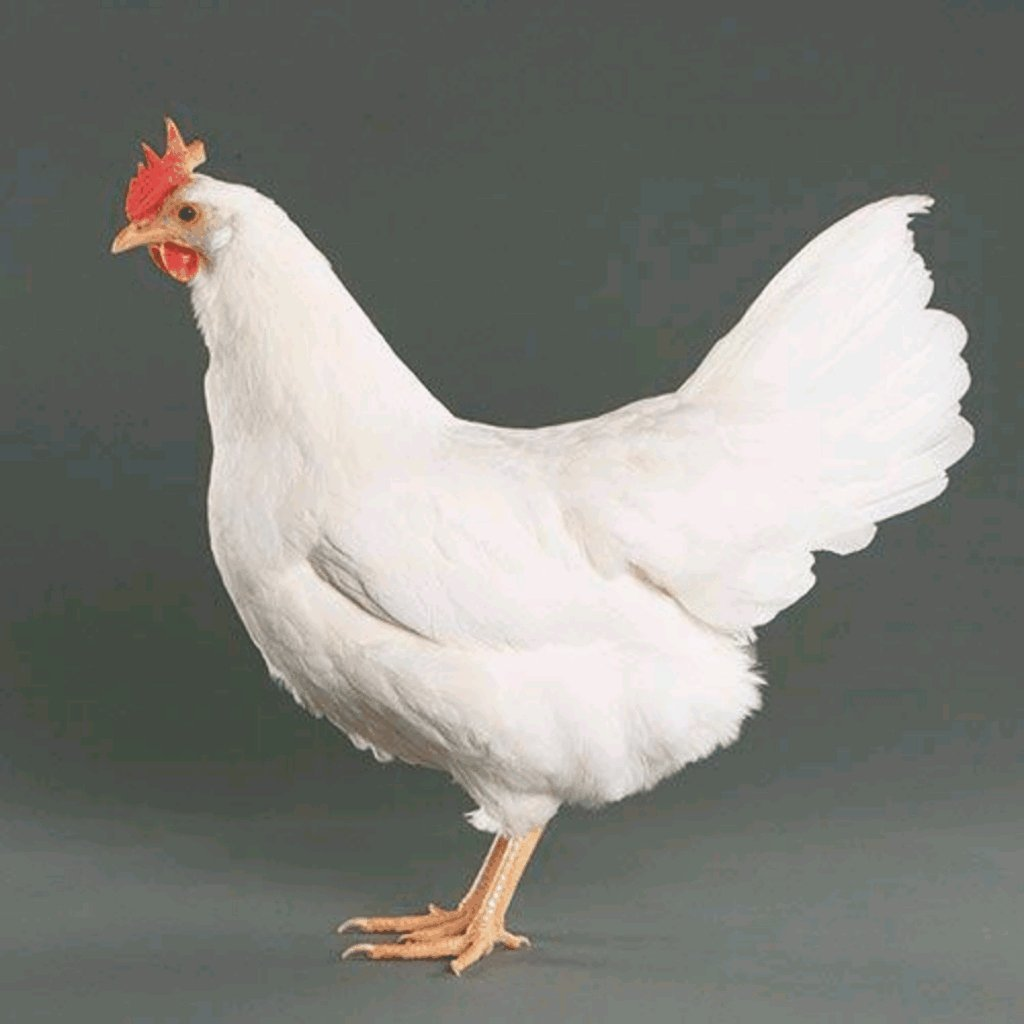Healthy: (100, 103, 980, 973)
